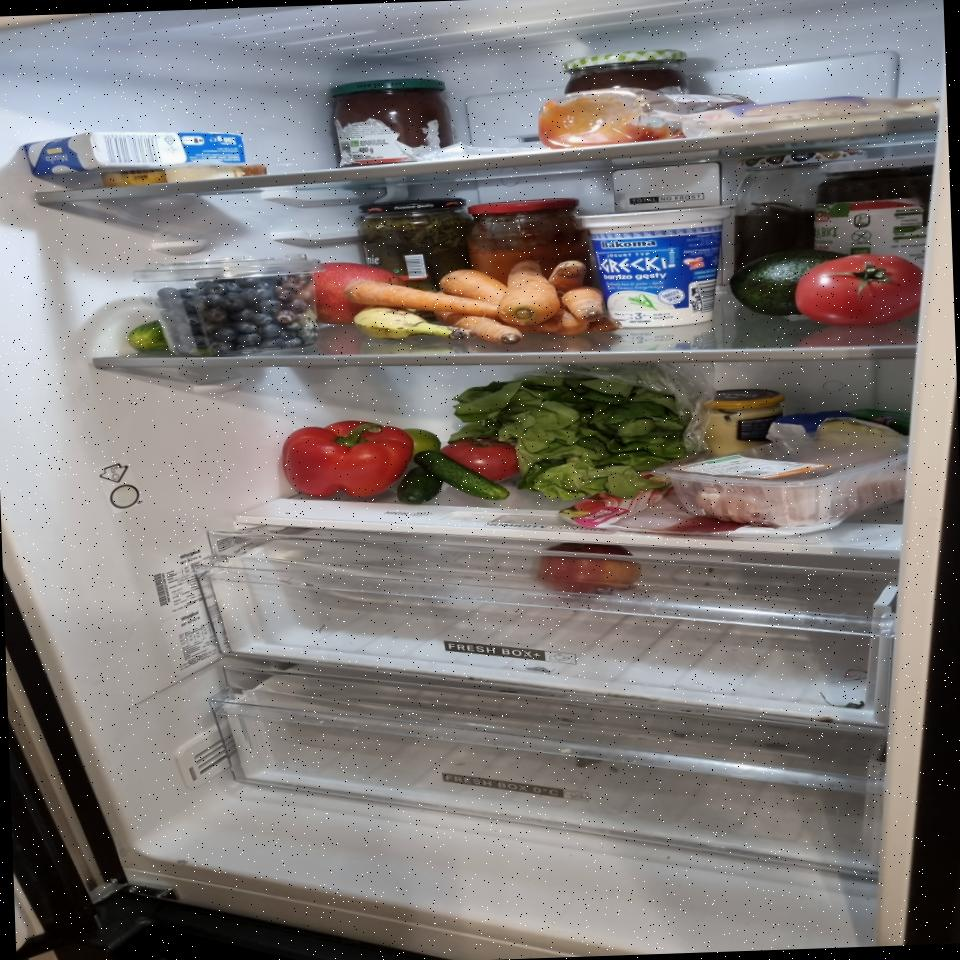Aguacate: (730, 246, 850, 317)
Carne pollo: (652, 428, 911, 531)
Lechuga/Endivia: (447, 358, 704, 506)
Mantequilla: (22, 128, 248, 178), (766, 409, 902, 443)
Manzana: (532, 541, 643, 602), (308, 260, 406, 324)
Pepino: (398, 448, 510, 504), (126, 320, 168, 353)
Plátano: (353, 300, 473, 342)
Queso: (653, 92, 940, 138)
Tomate: (794, 252, 925, 328), (442, 437, 519, 484)
Yogur: (576, 204, 740, 329)
Zanahoria: (344, 256, 627, 350)
bell pepper: (279, 418, 414, 500)
blueberries: (134, 252, 328, 359)
ketchup: (538, 84, 758, 150)
lime: (399, 428, 442, 456)
mustard: (698, 387, 788, 458)
